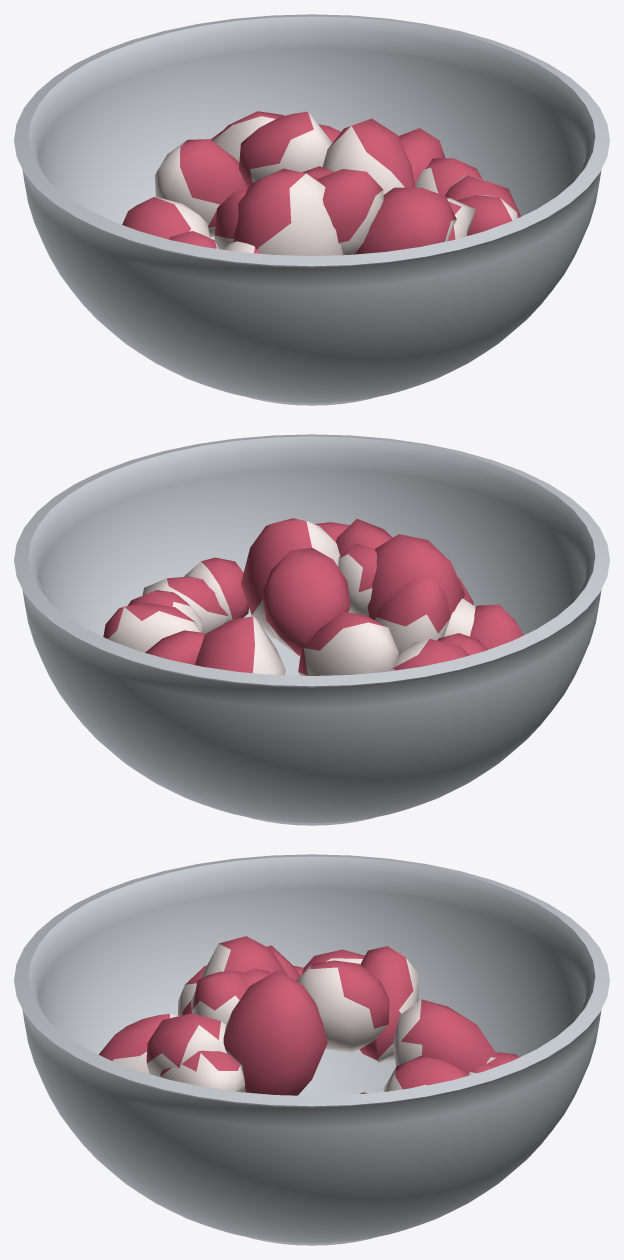
Rendered from Octopus_Bowl.fbx.
3 views of the same model, one above another, from view 1: azimuth 30°, elevation 25°; view 2: azimuth 150°, elevation 25°; view 3: azimuth 270°, elevation 25° (orthographic).
Parts seen in each view (by area): view 1: Octopus_Bowl; view 2: Octopus_Bowl; view 3: Octopus_Bowl.
Boxes of the visible parts, x1,y1,x2,y2 form: Octopus_Bowl: (14,14,609,405); Octopus_Bowl: (14,434,609,825); Octopus_Bowl: (14,854,609,1245).
Size of the model in its own units: 0.133 by 0.0585 by 0.133.
